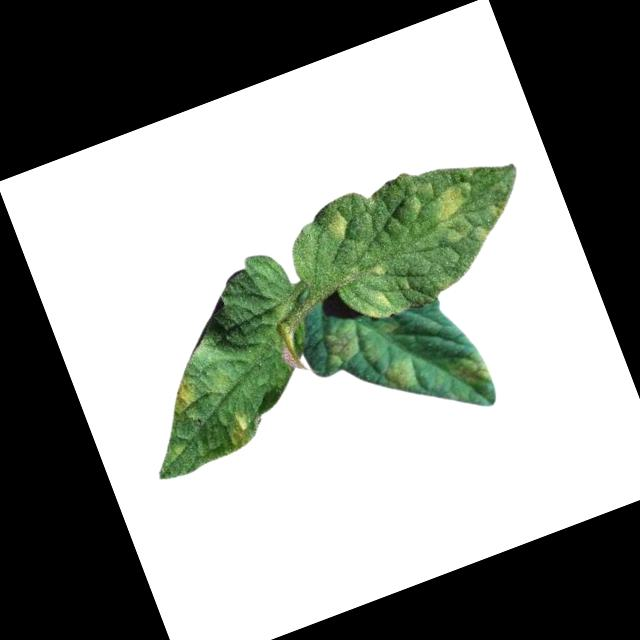Leaf_Mold: (310, 317, 365, 372), (442, 347, 494, 395), (420, 179, 473, 224), (378, 354, 421, 397), (218, 408, 259, 452), (166, 376, 203, 415), (320, 205, 355, 244), (360, 287, 396, 321), (365, 259, 389, 281)
